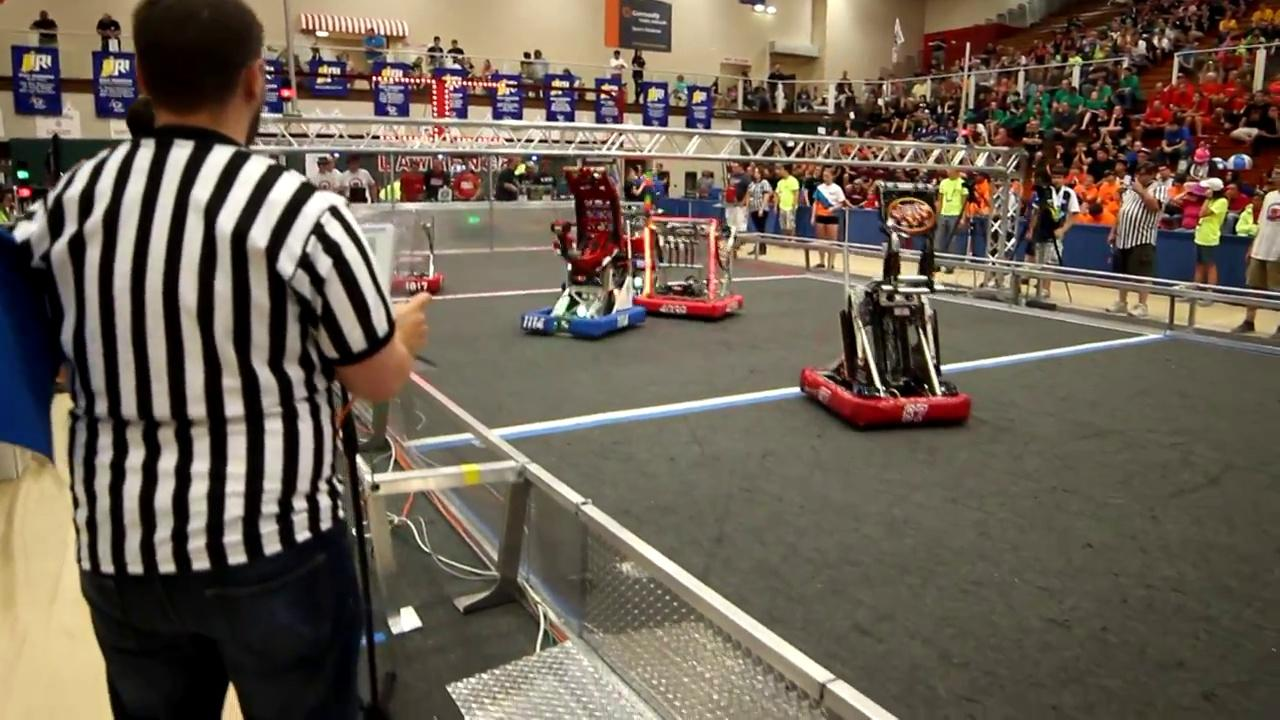robot: (802, 179, 972, 434), (515, 160, 652, 342), (631, 211, 752, 323), (371, 211, 448, 292)
